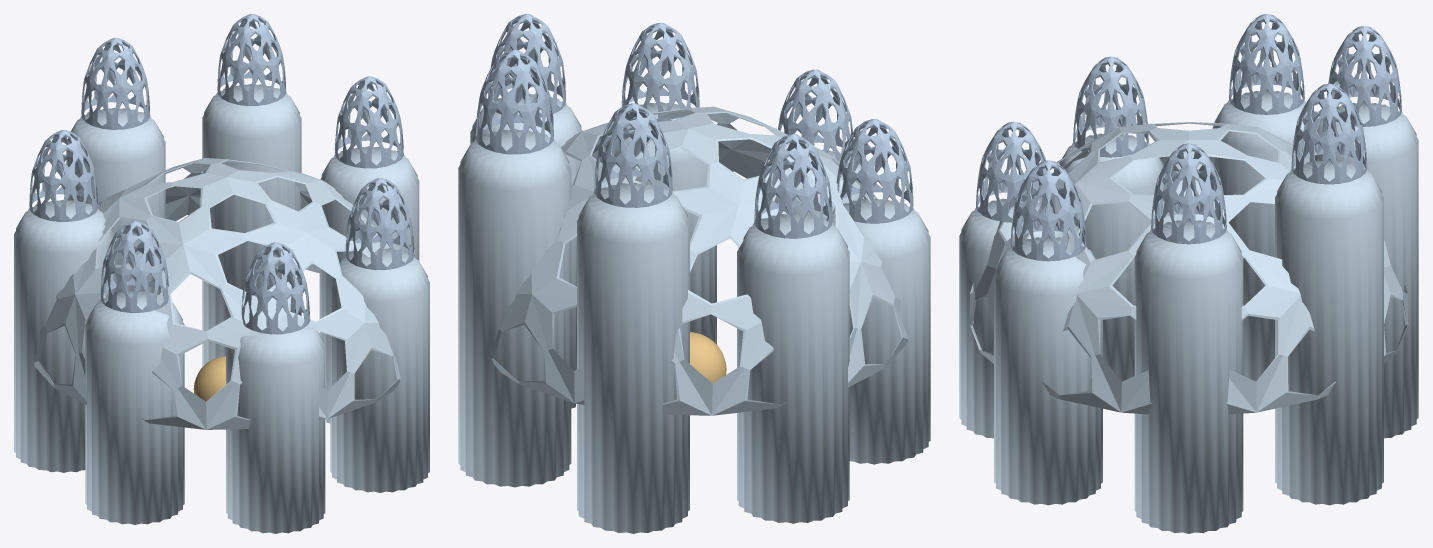
Rendered from setpiece_shell_cathedral.glb.
The picture shows the model from 3 angles, left to right: view 1: azimuth 30°, elevation 25°; view 2: azimuth 150°, elevation 25°; view 3: azimuth 270°, elevation 25°; orthographic projection. The views are drawn at different scales.
Parts seen in each view (by area): view 1: Landmark; view 2: Landmark; view 3: Landmark.
Boxes of the visible parts, x1,y1,x2,y2 form: Landmark: (14, 14, 429, 533); Landmark: (458, 14, 930, 533); Landmark: (959, 14, 1418, 533).
Size of the model in its own units: 8.6 by 8.53 by 8.69.
